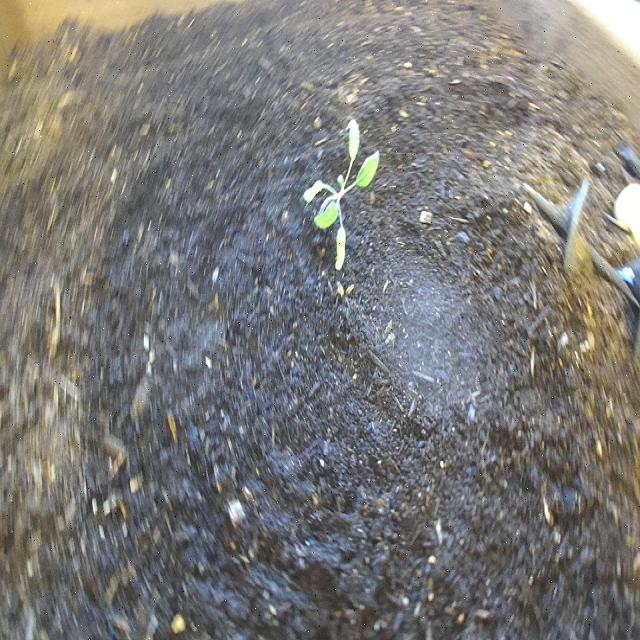Healthy: (301, 116, 382, 276)
